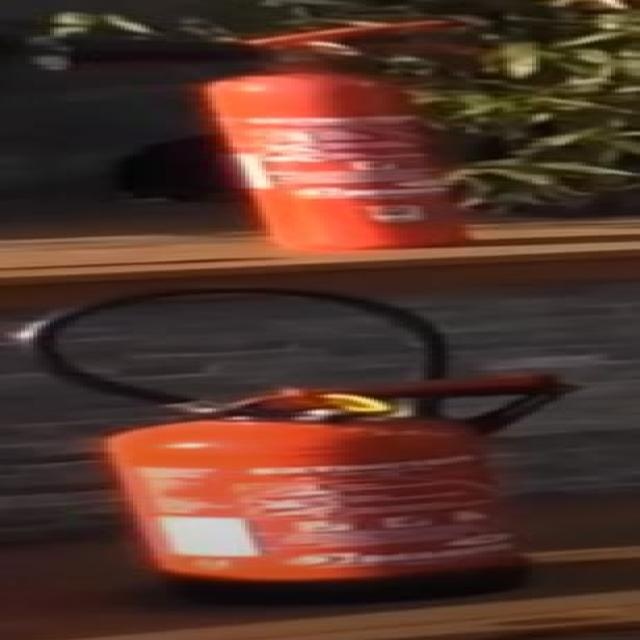fire_extinguisher: (0, 278, 603, 611), (11, 17, 572, 266)
